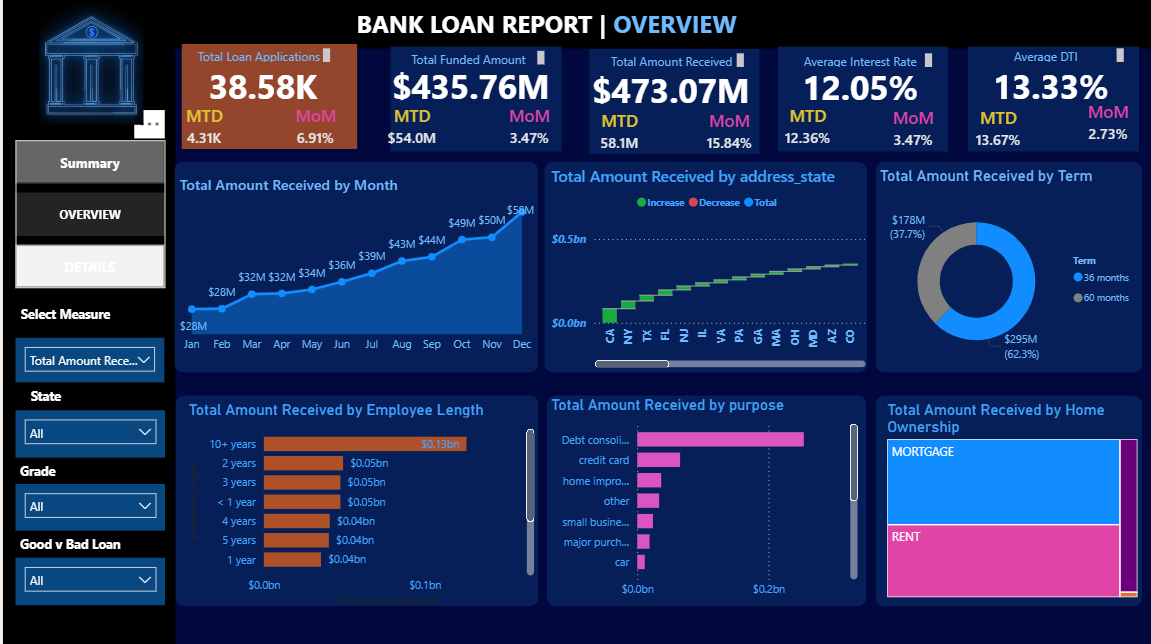

Layout of this report page (visuals, bound fields, positions):
{"tool":"powerbi","page":{"name":"OVERVIEW","canvas":[1280,720],"ordinal":1},"visuals":[{"type":"shape","box":[0,55.5,191.8,664.7],"z":0},{"type":"shape","box":[0,0,1280,55.5],"z":1000},{"type":"textbox","box":[381.2,4.8,447.6,45.8],"z":2000},{"type":"shape","box":[199.1,50.7,195.4,117],"z":3000},{"type":"textbox","box":[207.7,50.7,162.1,25.3],"z":4000},{"type":"card","title":"MTD","fields":{"Values":["financial_loan.MTD Loan Applications"]},"box":[191.2,116.5,67.1,50.7],"z":5000},{"type":"card","fields":{"Values":["financial_loan.Total Loan Applications"]},"box":[191.2,76,197.5,40.5],"z":6000},{"type":"card","title":"MoM","fields":{"Values":["financial_loan.Mom Loan Applications"]},"box":[314,116.5,67.1,50.7],"z":7000},{"type":"shape","box":[431.9,53.1,190.6,117],"z":8000},{"type":"card","title":"MTD","fields":{"Values":["financial_loan.MTD Funded Amount"]},"box":[422.3,117,67.6,50.7],"z":9000},{"type":"card","fields":{"Values":["financial_loan.Total Funded Amount"]},"box":[422.3,76,197.9,41],"z":10000},{"type":"card","title":"MoM","fields":{"Values":["financial_loan.Mom Total Funded Amount"]},"box":[552.5,117,67.6,50.7],"z":11000},{"type":"shape","box":[652.7,55.5,189.4,117],"z":12000},{"type":"textbox","box":[667.2,55.5,161.7,25.3],"z":13000},{"type":"card","title":"MTD","fields":{"Values":["financial_loan.MTD Total Amount Received"]},"box":[652.7,121.9,67.6,50.7],"z":14000},{"type":"card","fields":{"Values":["financial_loan.Total Amount Received"]},"box":[644.2,80.8,197.9,41],"z":15000},{"type":"card","title":"MoM","fields":{"Values":["financial_loan.Mom Total Amount Received"]},"box":[774.5,121.9,67.6,50.7],"z":16000},{"type":"shape","box":[862.6,53.1,189.4,117],"z":17000},{"type":"textbox","box":[875.9,55.5,162.9,25.3],"z":18000},{"type":"card","title":"MTD","fields":{"Values":["financial_loan.MTD Average Interest Rate"]},"box":[862.6,117,66.4,50.7],"z":19000},{"type":"card","fields":{"Values":["financial_loan.Average Interest Rate"]},"box":[855.4,78.4,196.6,41],"z":20000},{"type":"card","title":"MoM","fields":{"Values":["financial_loan.Mom Total Funded Amount"]},"box":[979.6,119.4,67.6,50.7],"z":21000},{"type":"shape","box":[1073.7,53.1,190.6,117],"z":22000},{"type":"textbox","box":[1076.1,50.7,177.3,25.3],"z":23000},{"type":"card","title":"MTD","fields":{"Values":["financial_loan.MTD Avg DTI"]},"box":[1073.7,119.4,67.6,50.7],"z":24000},{"type":"card","fields":{"Values":["financial_loan.Avg DTI"]},"box":[1066.5,76,197.9,41],"z":25000},{"type":"shape","box":[191.2,181.1,405,235],"z":26000},{"type":"card","title":"MoM","fields":{"Values":["financial_loan.Mom Avg DTI"]},"box":[1196.8,112.2,67.6,50.7],"z":27000},{"type":"shape","box":[602,181,359.5,235.3],"z":28000},{"type":"textbox","box":[435.5,53.1,172.5,25.3],"z":29000},{"type":"slicer","fields":{"Values":["financial_loan.address_state"]},"box":[13.3,457.2,166.5,53.1],"z":30000},{"type":"slicer","fields":{"Values":["financial_loan.Good V Bad Loan"]},"box":[13.3,622.5,166.5,53.1],"z":31000},{"type":"slicer","fields":{"Values":["financial_loan.grade"]},"box":[13.3,540.5,166.5,51.9],"z":32000},{"type":"textbox","box":[13.3,427.1,67.6,30.2],"z":33000},{"type":"textbox","box":[13.3,510.3,108.6,30.2],"z":34000},{"type":"textbox","box":[13.3,592.4,123.1,30.2],"z":35000},{"type":"slicer","fields":{"Values":["Select Measure.Select Measure"]},"box":[14.5,376.4,165.3,49.5],"z":36000},{"type":"textbox","box":[14.5,336.6,111,39.8],"z":37000},{"type":"areaChart","fields":{"Category":["Data Table.Month"],"Y":["financial_loan.Total Amount Received"]},"box":[191.8,194.2,404.2,207.5],"z":38000},{"type":"shape","box":[971.2,181,296.8,235.3],"z":39000},{"type":"donutChart","fields":{"Y":["financial_loan.Total Amount Received"],"Category":["financial_loan.term"]},"box":[971.2,185.8,296.8,230.4],"z":40000},{"type":"waterfallChart","fields":{"Category":["financial_loan.address_state"],"Y":["financial_loan.Total Amount Received"]},"box":[605.6,184.6,360,230],"z":41000},{"type":"shape","box":[191.8,440.4,404.2,235.3],"z":42000},{"type":"barChart","fields":{"Y":["financial_loan.Total Amount Received"],"Category":["financial_loan.emp_length"]},"box":[201.5,446.4,394.5,234],"z":43000},{"type":"shape","box":[605.6,440.4,355.9,235.3],"z":44000},{"type":"barChart","fields":{"Y":["financial_loan.Total Amount Received"],"Category":["financial_loan.purpose"]},"box":[605.6,441.6,351.1,234],"z":45000},{"type":"shape","box":[971.2,440.4,296.8,235.3],"z":46000},{"type":"treemap","fields":{"Values":["financial_loan.Total Amount Received"],"Group":["financial_loan.home_ownership"]},"box":[979.6,446.4,288.3,224.4],"z":47000},{"type":"pageNavigator","box":[14.5,156.8,166.5,165.3],"z":47001},{"type":"image","box":[2.4,0,190.6,144.8],"z":47002}]}

Visuals, with their boxes in screenshot pixels (x1, y1, x2, y2), scaled from the page's 1280x720 canvas onto the 1151x644 screenshot:
shape: [0,50,172,643]
shape: [0,0,1150,50]
textbox: [343,4,745,45]
shape: [179,45,355,150]
textbox: [187,45,333,68]
"MTD" card: [172,104,232,150]
card - financial_loan.Total Loan Applications: [172,68,350,104]
"MoM" card: [282,104,343,150]
shape: [388,47,560,152]
"MTD" card: [380,105,441,150]
card - financial_loan.Total Funded Amount: [380,68,558,105]
"MoM" card: [497,105,558,150]
shape: [587,50,757,154]
textbox: [600,50,745,72]
"MTD" card: [587,109,648,154]
card - financial_loan.Total Amount Received: [579,72,757,109]
"MoM" card: [696,109,757,154]
shape: [776,47,946,152]
textbox: [788,50,934,72]
"MTD" card: [776,105,835,150]
card - financial_loan.Average Interest Rate: [769,70,946,107]
"MoM" card: [881,107,942,152]
shape: [965,47,1137,152]
textbox: [968,45,1127,68]
"MTD" card: [965,107,1026,152]
card - financial_loan.Avg DTI: [959,68,1137,105]
shape: [172,162,536,372]
"MoM" card: [1076,100,1137,146]
shape: [541,162,865,372]
textbox: [392,47,547,70]
slicer - financial_loan.address_state: [12,409,162,456]
slicer - financial_loan.Good V Bad Loan: [12,557,162,604]
slicer - financial_loan.grade: [12,483,162,530]
textbox: [12,382,73,409]
textbox: [12,456,110,483]
textbox: [12,530,123,557]
slicer - Select Measure.Select Measure: [13,337,162,381]
textbox: [13,301,113,337]
areaChart - Data Table.Month x financial_loan.Total Amount Received: [172,174,536,359]
shape: [873,162,1140,372]
donutChart - financial_loan.Total Amount Received x financial_loan.term: [873,166,1140,372]
waterfallChart - financial_loan.address_state x financial_loan.Total Amount Received: [545,165,868,371]
shape: [172,394,536,604]
barChart - financial_loan.Total Amount Received x financial_loan.emp_length: [181,399,536,609]
shape: [545,394,865,604]
barChart - financial_loan.Total Amount Received x financial_loan.purpose: [545,395,860,604]
shape: [873,394,1140,604]
treemap - financial_loan.Total Amount Received x financial_loan.home_ownership: [881,399,1140,600]
pageNavigator: [13,140,163,288]
image: [2,0,174,130]
